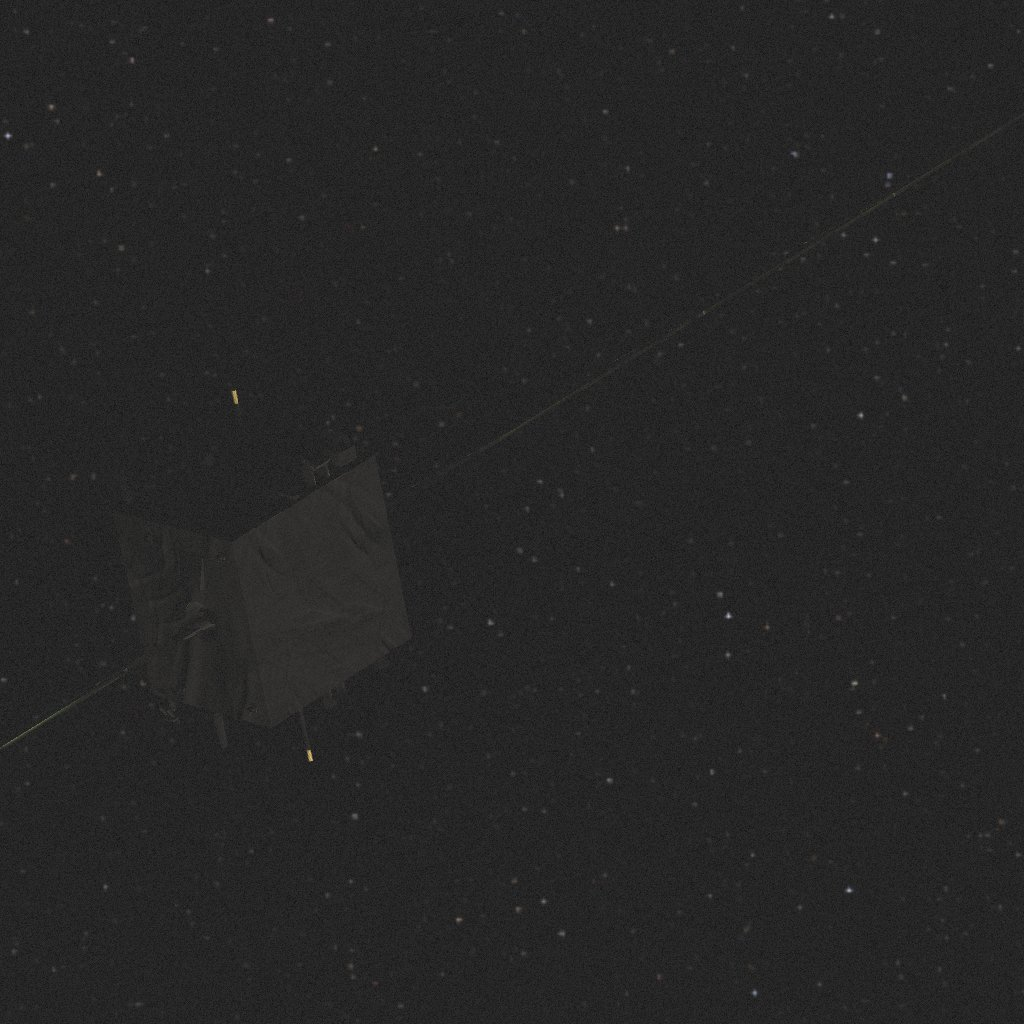smart_1: (8, 125, 1004, 780)
